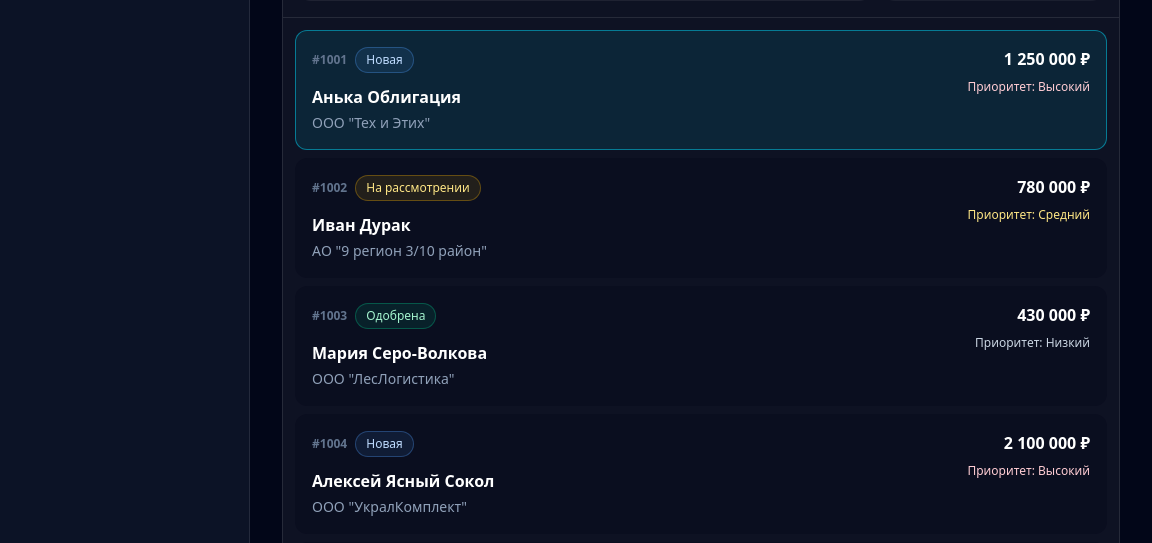
it: ApplicationsDashboard › открывает выбранную заявку и показывает её данные
The image size is (1152, 543).
(page scrolled)
Click the button that starts with "На рассмотрении": (418, 188) [295,158,1107,278]
(page scrolled)
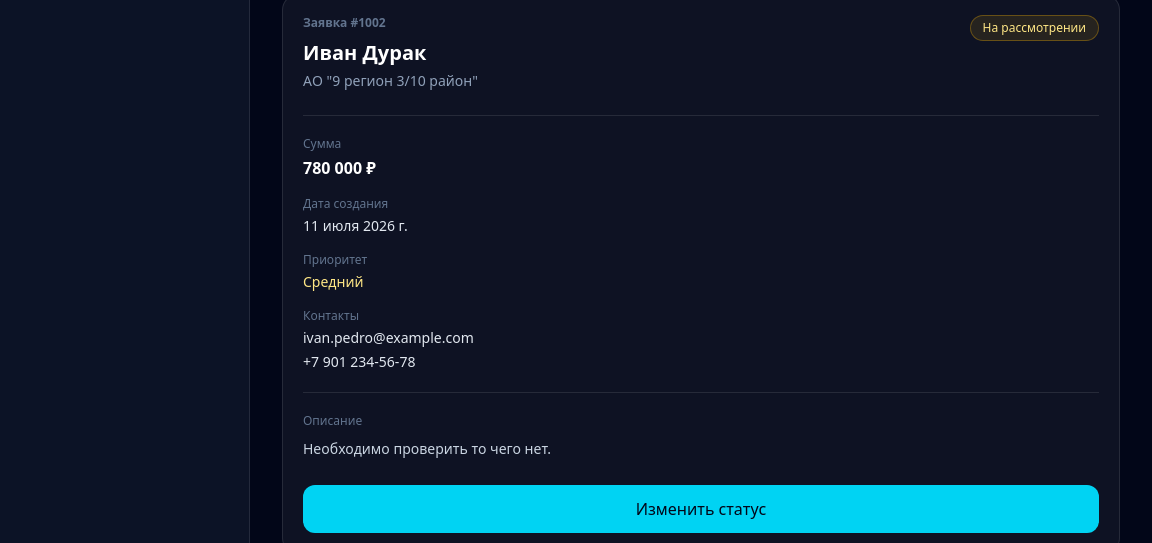
Expected: the text "ivan.pedro@example.com" is shown, [303,328,474,347]
Expected: the text "+7 901 234-56-78" is shown, [303,352,415,371]
